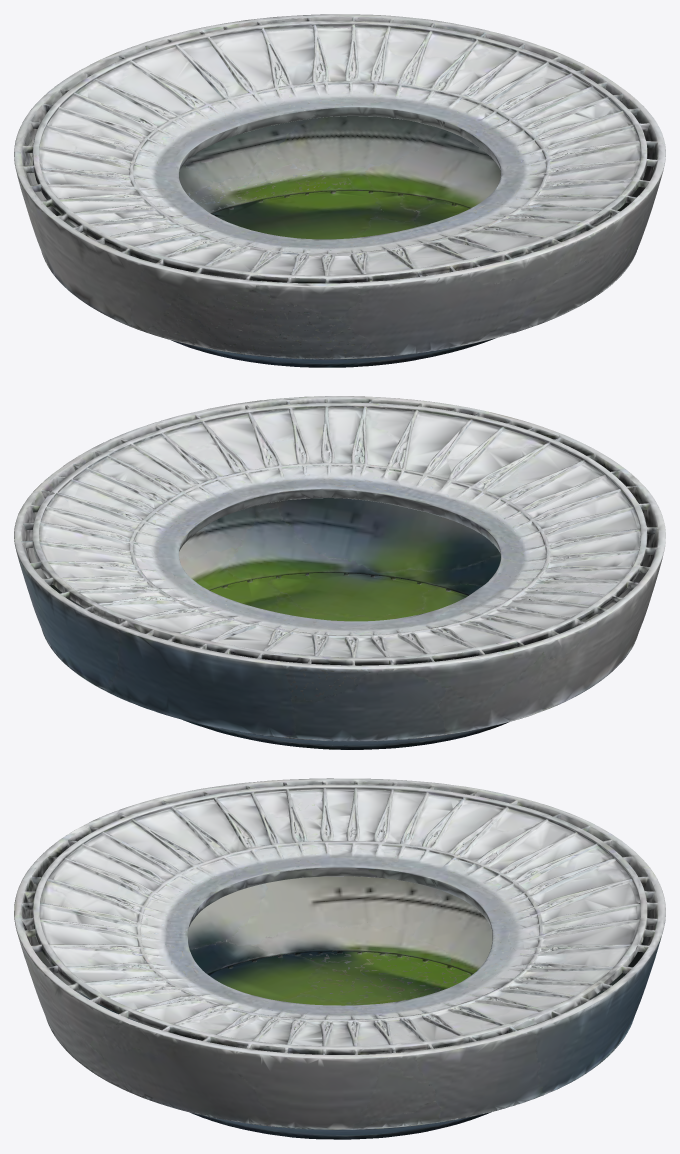
Rendered from CapeTownStadium.glb.
The picture shows the model from 3 angles, top to bottom: view 1: azimuth 30°, elevation 25°; view 2: azimuth 150°, elevation 25°; view 3: azimuth 270°, elevation 25°; orthographic projection. The views are drawn at different scales.
Visible parts, largest first — view 1: node_0; view 2: node_0; view 3: node_0.
Boxes of the visible parts, x1,y1,x2,y2 form: node_0: (14, 14, 665, 367); node_0: (14, 396, 665, 749); node_0: (14, 778, 665, 1139).
Bounding box in the file's own units: 1.17 × 0.2624 × 1.15.
Materials: 1 (1 with a texture image).
